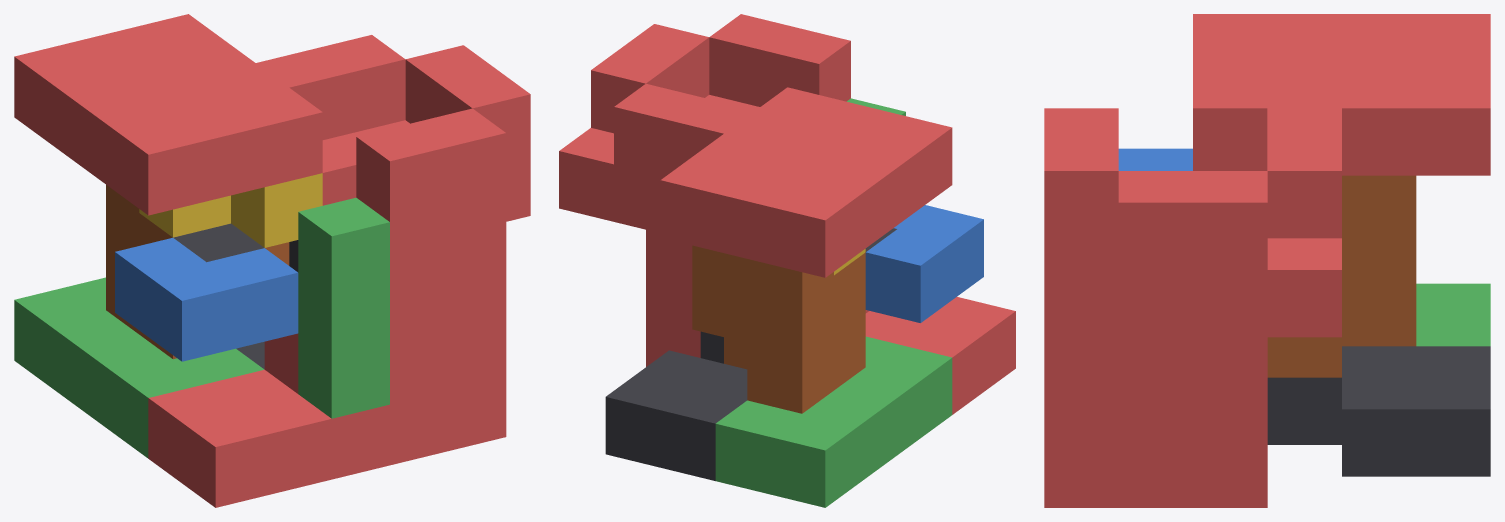
File: voxel_export.obj
3 renders of one model, left to right at view 1: azimuth 30°, elevation 25°; view 2: azimuth 150°, elevation 25°; view 3: azimuth 270°, elevation 25°, orthographic. The views are drawn at different scales.
Size of the model in its own units: 6 by 5 by 6.
